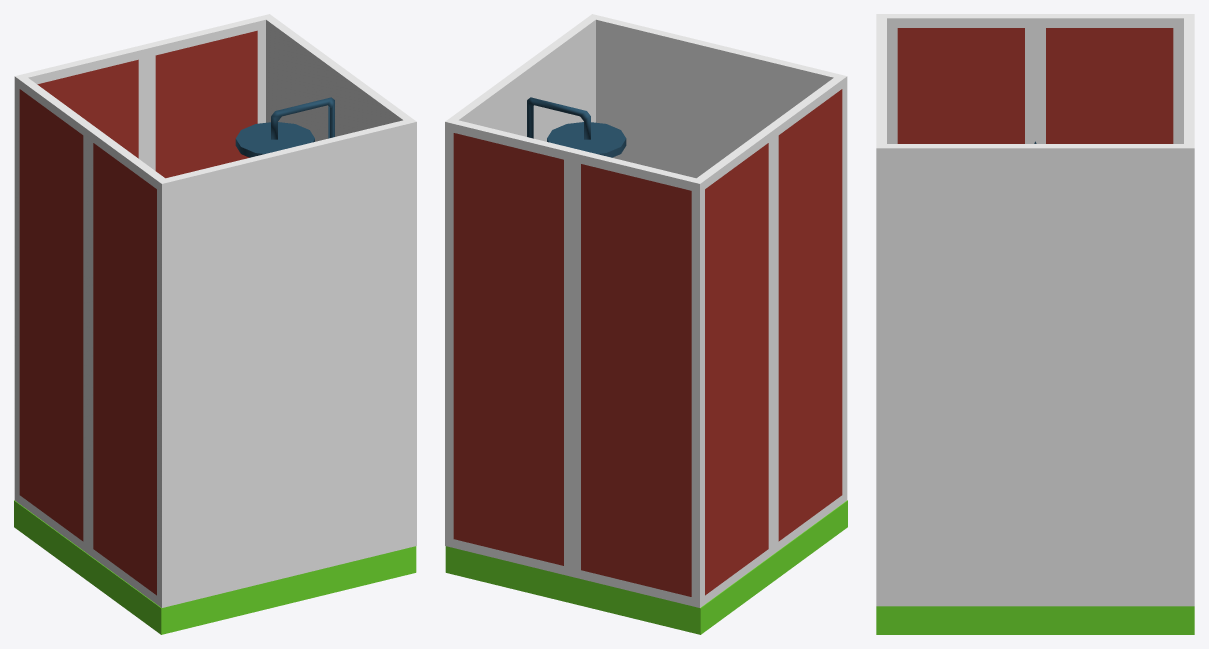
File: SM_Shower_01.fbx
3 views of the same model, side by side, from view 1: azimuth 30°, elevation 25°; view 2: azimuth 150°, elevation 25°; view 3: azimuth 270°, elevation 25° (orthographic). The views are drawn at different scales.
Parts seen in each view (by area): view 1: SM_Shower_01; view 2: SM_Shower_01; view 3: SM_Shower_01.
Part boxes in pixels (<box>): SM_Shower_01: <box>14,14,416,634</box>; SM_Shower_01: <box>445,14,847,634</box>; SM_Shower_01: <box>876,14,1194,634</box>.
Size of the model in its own units: 150 by 253 by 150.
